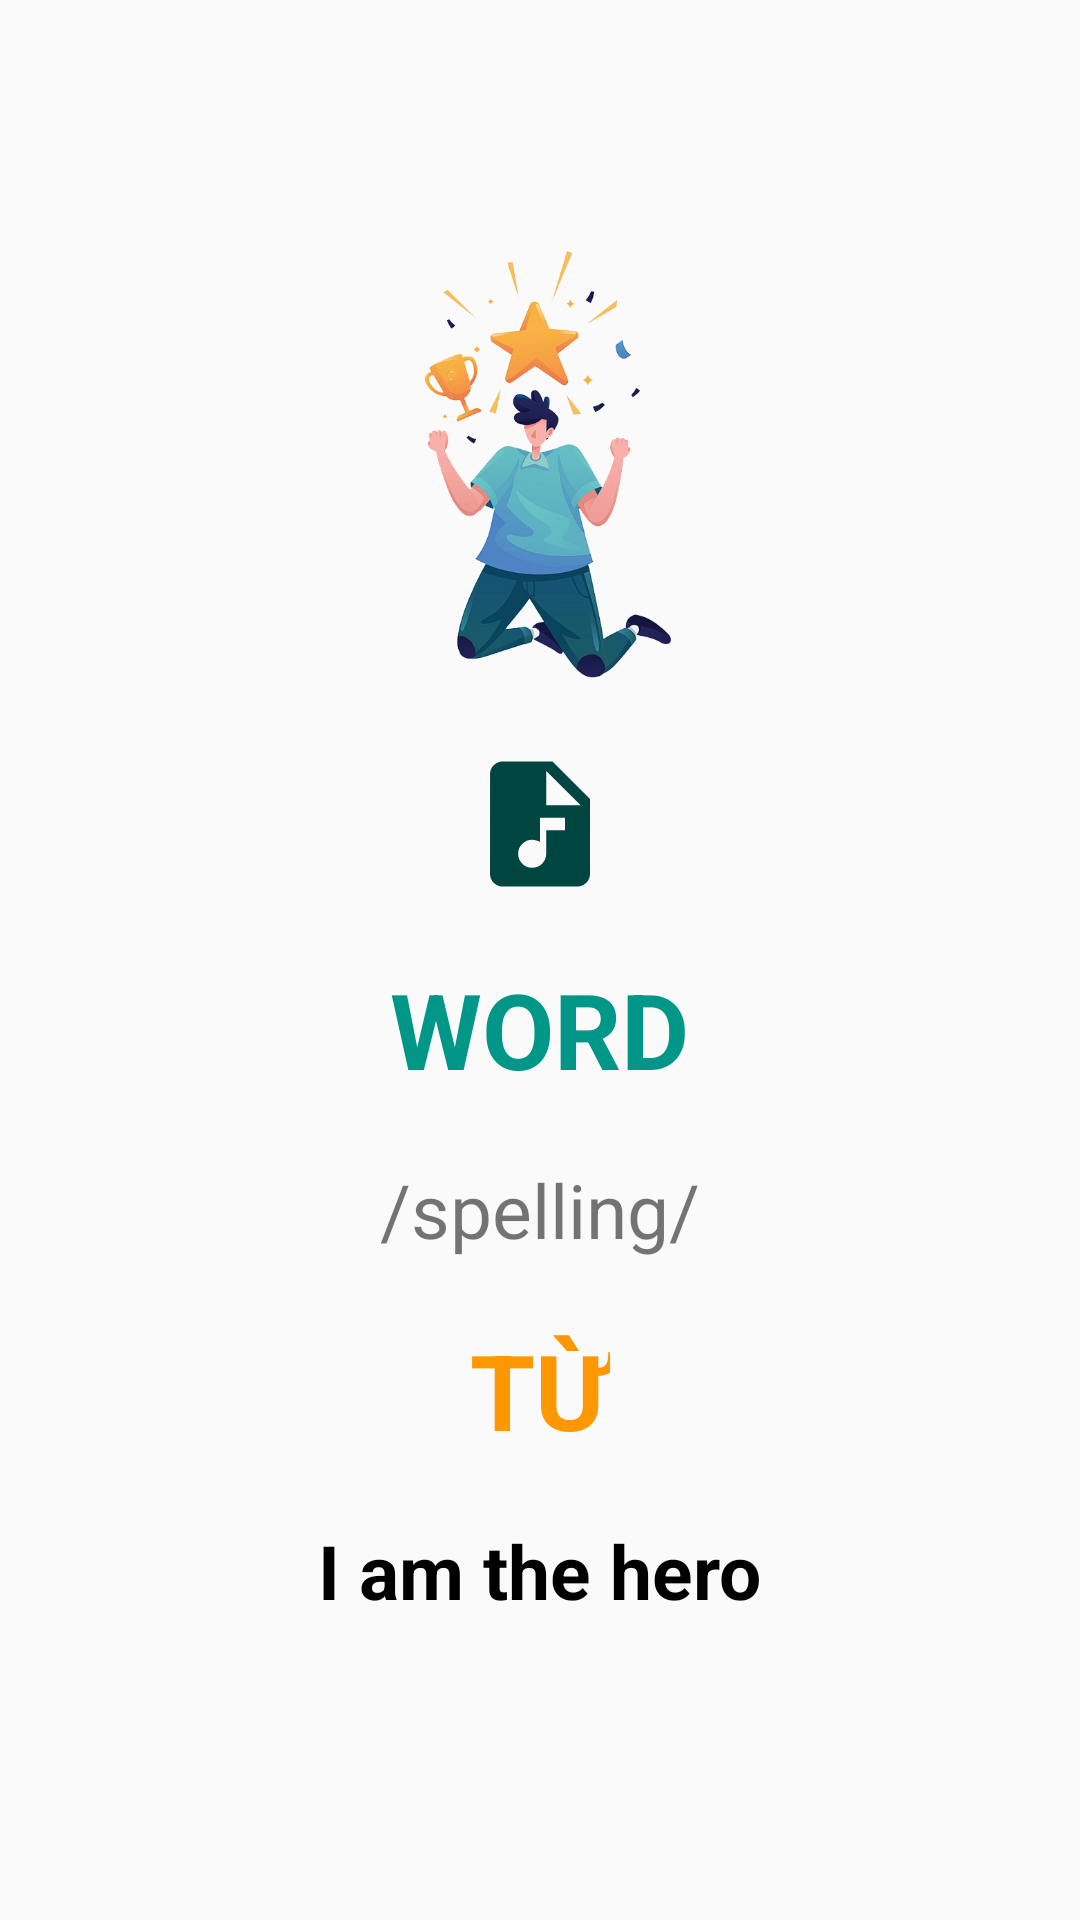

Where to tap for icons on this 1080 × 1920 app screen, as (x,y):
audio file: (540,824)
